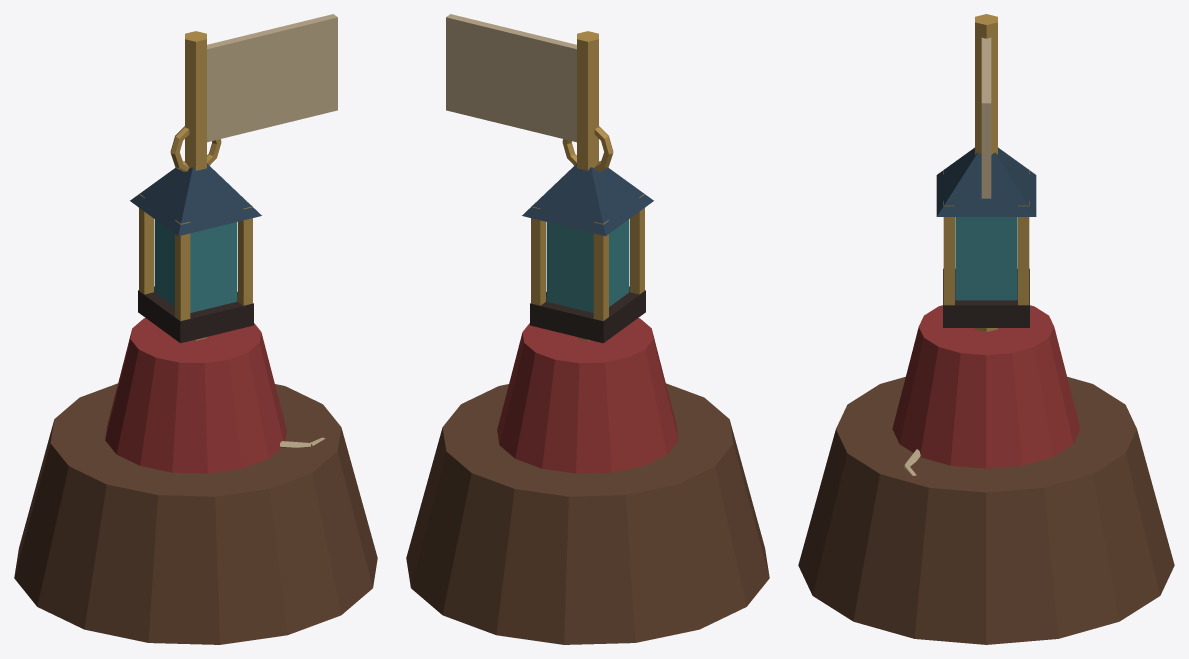
File: PirateCove_SignalBuoy_Showcase.glb
3 views of the same model, side by side, from view 1: azimuth 30°, elevation 25°; view 2: azimuth 150°, elevation 25°; view 3: azimuth 270°, elevation 25° (orthographic). The views are drawn at different scales.
Visible parts, largest first — view 1: PirateCove_SignalBuoy_Showcase; view 2: PirateCove_SignalBuoy_Showcase; view 3: PirateCove_SignalBuoy_Showcase.
Boxes of the visible parts, <box> form: PirateCove_SignalBuoy_Showcase: <box>14,14,377,644</box>; PirateCove_SignalBuoy_Showcase: <box>406,14,769,644</box>; PirateCove_SignalBuoy_Showcase: <box>798,14,1174,644</box>.
Size of the model in its own units: 1 by 1.6 by 1.
